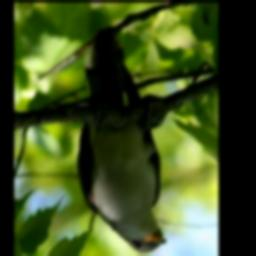Cuckoo: (75, 29, 167, 255)
